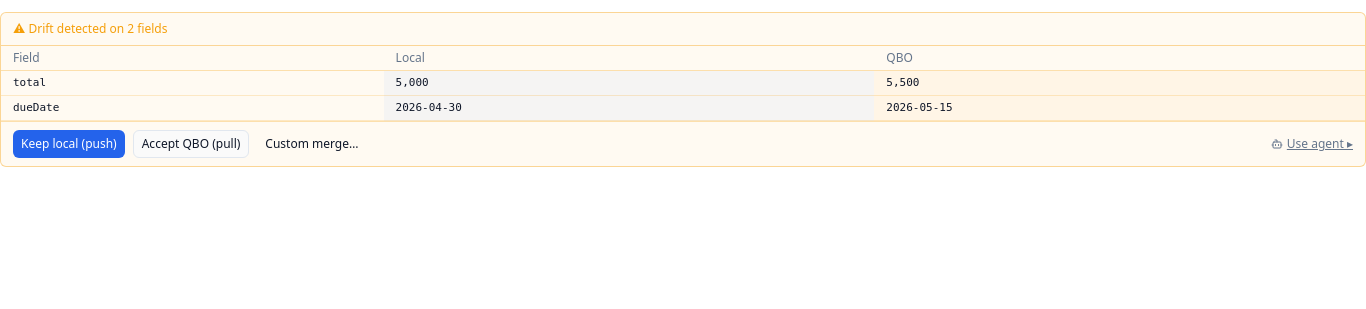
Test: DriftBlock › Custom merge opens the merge picker
Click the button with test id "drift-custom-merge". click: x=312, y=144
box: [257,130,367,158]
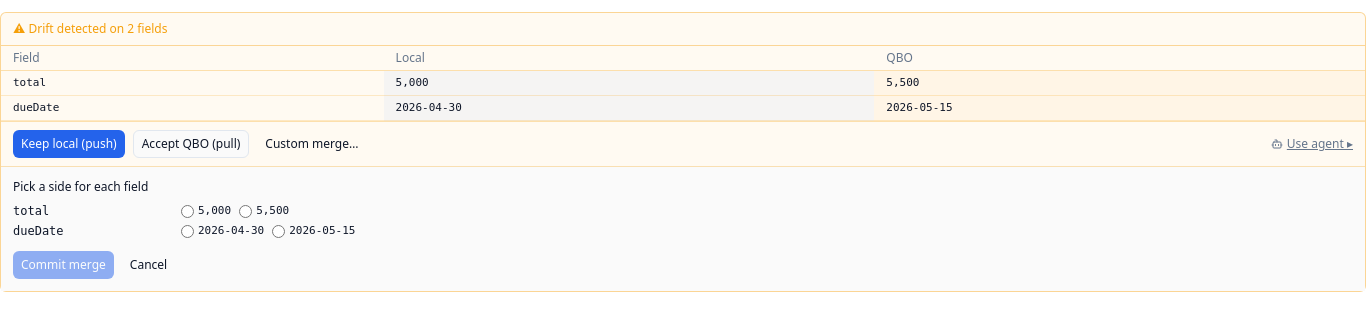
Check: the element with test id "merge-picker" is shown, box [1,166,1365,291]
